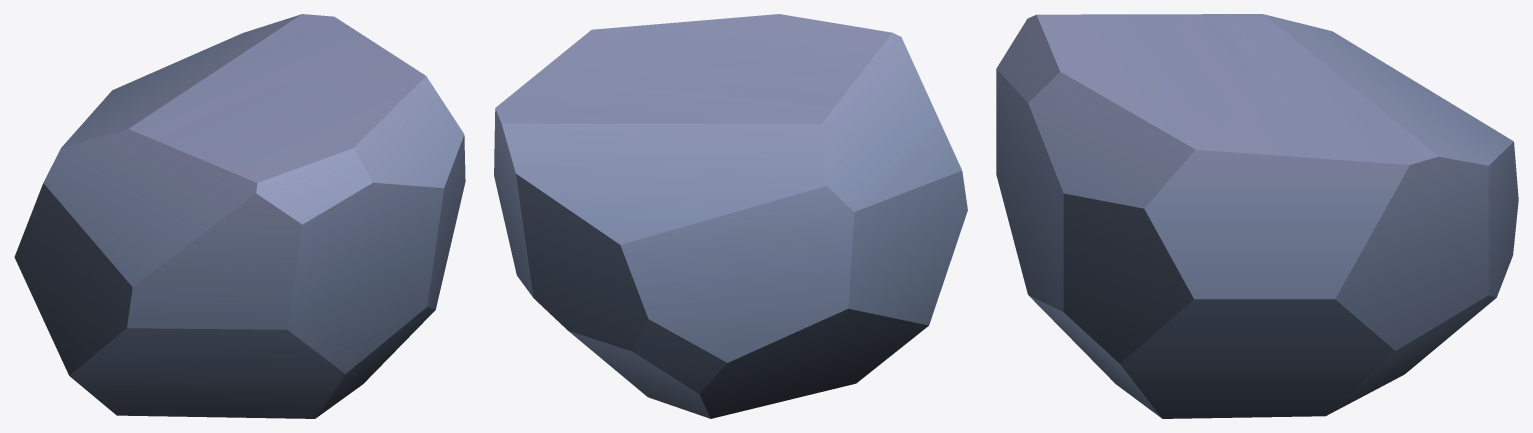
File: Rock_1.fbx
3 views of the same model, side by side, from view 1: azimuth 30°, elevation 25°; view 2: azimuth 150°, elevation 25°; view 3: azimuth 270°, elevation 25° (orthographic). The views are drawn at different scales.
Visible parts, largest first — view 1: Rock 1; view 2: Rock 1; view 3: Rock 1.
Boxes of the visible parts, x1,y1,x2,y2 form: Rock 1: [14, 14, 465, 418]; Rock 1: [494, 14, 967, 418]; Rock 1: [996, 14, 1518, 418].
Size of the model in its own units: 171 by 120 by 177.
